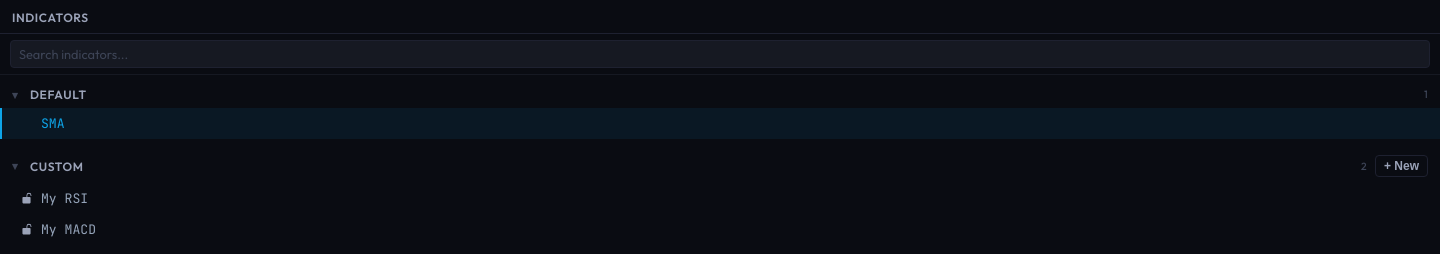
Test: <IndicatorsList> › clicking the DEFAULT header collapses its items
Click the button with test id "category-default" at (58, 94), box x1=12 y1=87 x2=1428 y2=102
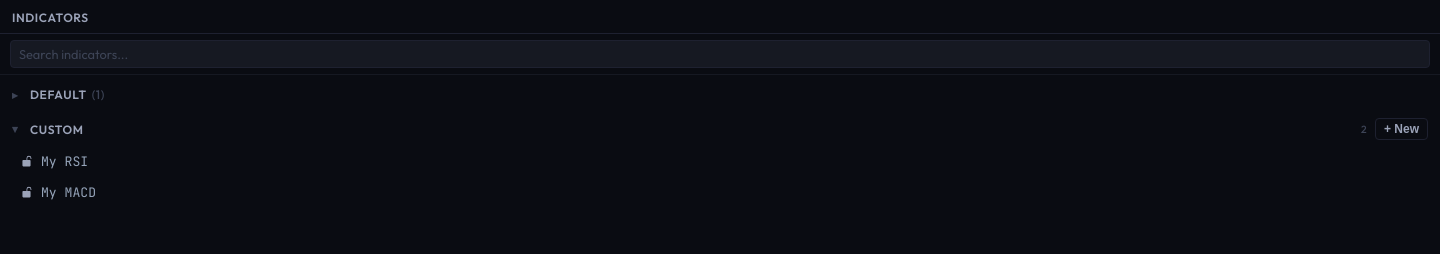
Result: the button "SMA" is gone
Result: the text "(1)" is shown at x1=89 y1=87 x2=105 y2=102
